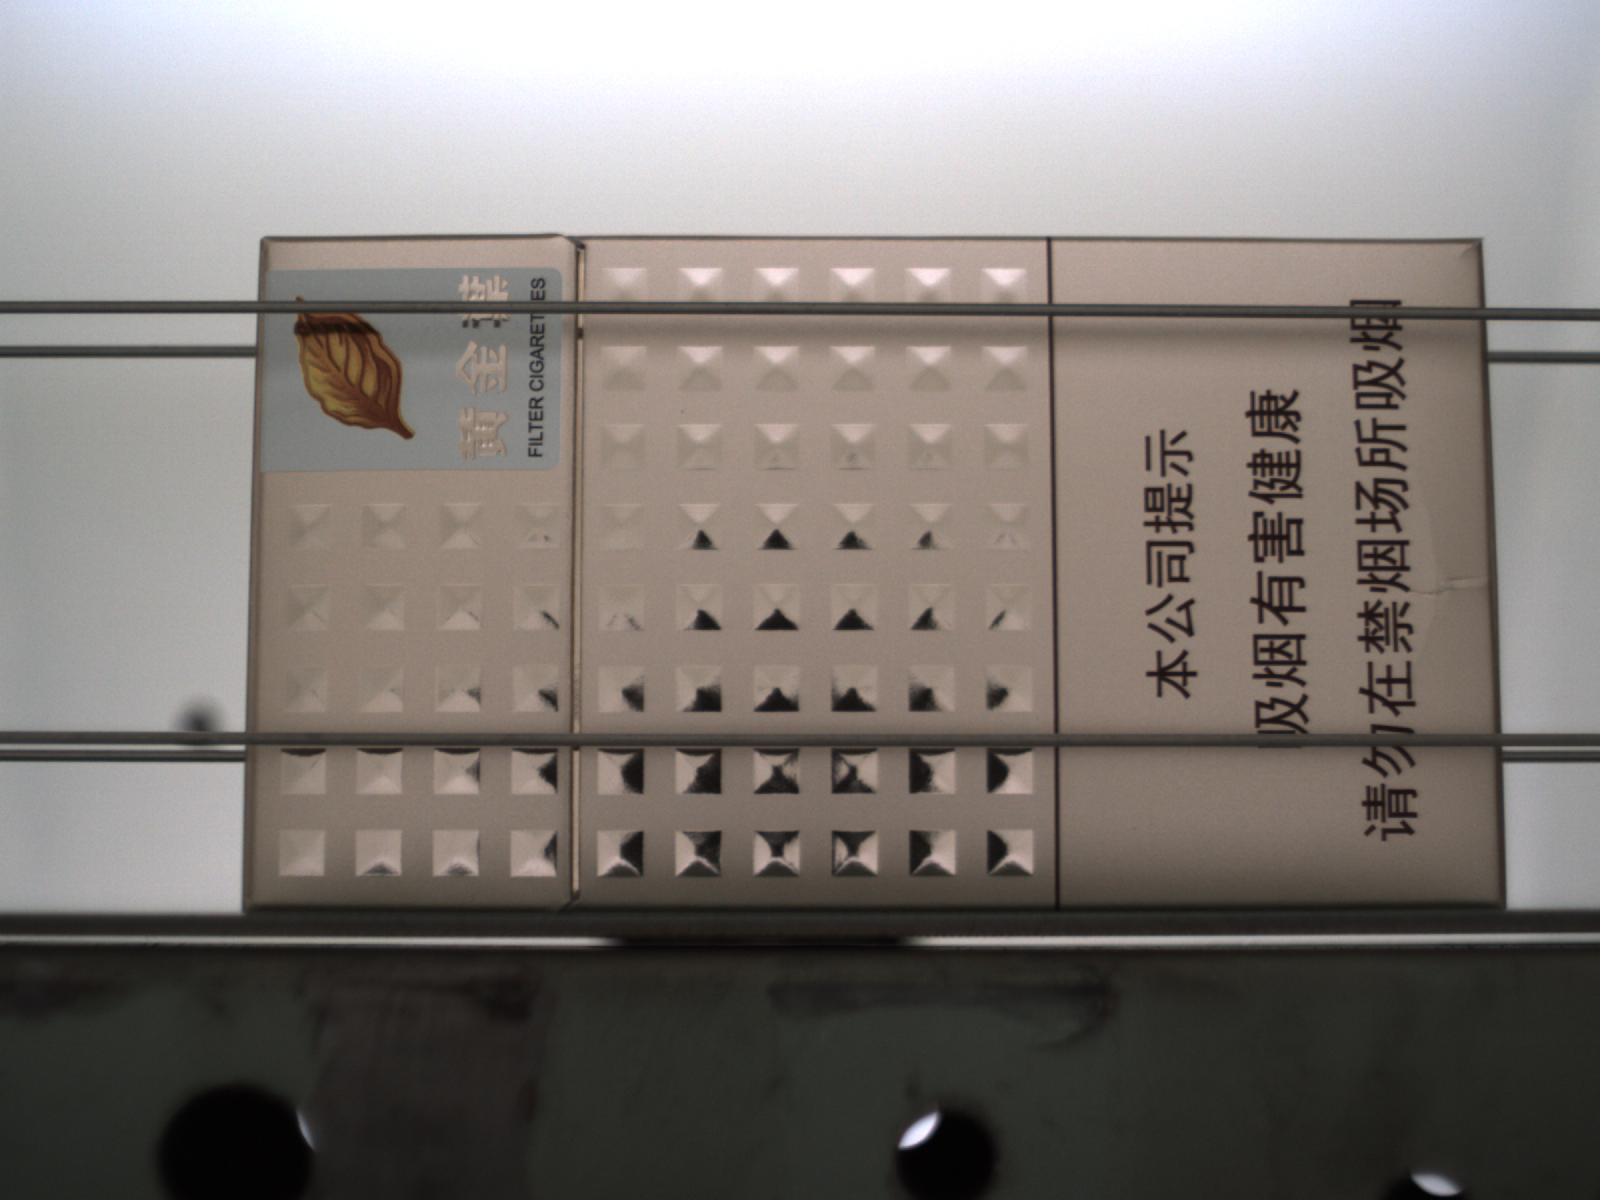crease: (1414, 474, 1488, 649)
crease_corner_heavy: (1461, 238, 1479, 257)
